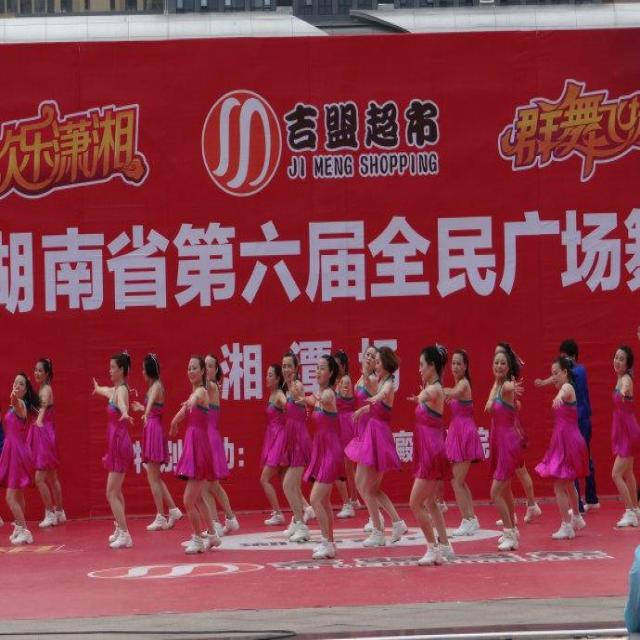non-fight: (397, 350, 454, 566), (348, 346, 407, 546), (288, 352, 345, 557), (473, 344, 527, 545), (170, 355, 218, 553), (126, 356, 180, 528), (538, 355, 586, 542), (90, 354, 136, 548), (594, 345, 639, 524), (0, 370, 34, 542), (30, 354, 64, 526), (258, 362, 286, 526)
